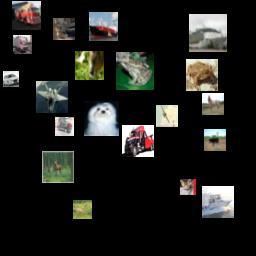airplane: (36, 81, 68, 113), (156, 105, 178, 127)
automobile: (55, 117, 74, 136), (3, 71, 19, 87)
bird: (204, 129, 226, 151)
cat: (53, 18, 75, 40), (180, 179, 196, 195)
deer: (42, 151, 74, 183), (75, 51, 104, 80), (73, 200, 92, 219)
dog: (84, 101, 119, 136)
frog: (116, 52, 154, 90), (186, 59, 218, 91)
ship: (189, 14, 227, 52), (202, 186, 234, 218), (89, 12, 118, 41)
truck: (122, 125, 154, 157), (12, 1, 41, 30), (13, 35, 32, 54)
